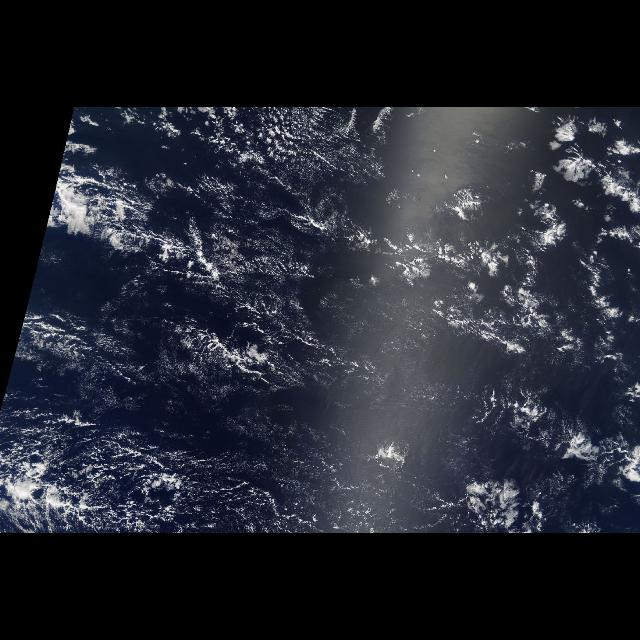Fish: (53, 167, 361, 533)
Flower: (384, 126, 640, 534)
Sugar: (10, 109, 422, 518)
